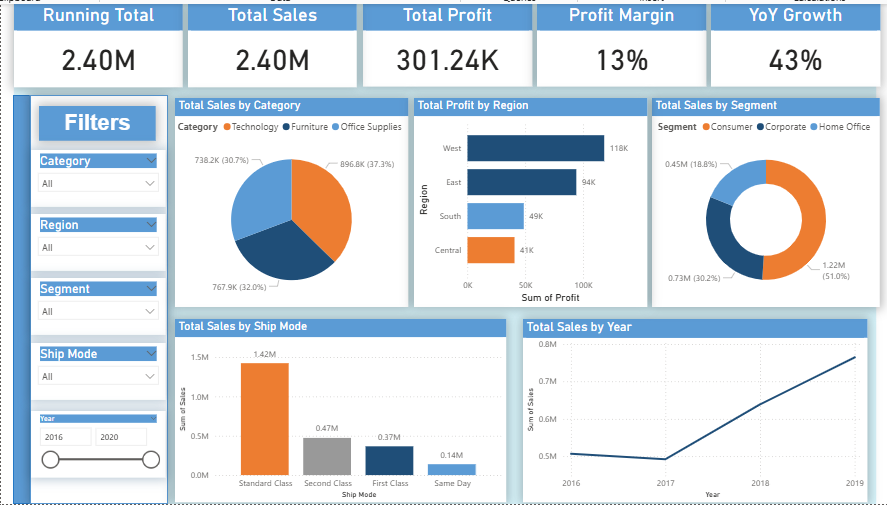

The dashboard page shown, as its layout file describes it:
{"tool":"powerbi","page":{"name":"executive analysis ","canvas":[1280,720],"ordinal":0},"visuals":[{"type":"shape","box":[17.3,131,24.5,589],"z":0},{"type":"shape","box":[41.8,131,198.7,589],"z":1000},{"type":"textbox","box":[54.7,146.9,168.5,50.4],"z":2000},{"type":"card","title":"Running Total ","fields":{"Values":["Fact.Running Total"]},"box":[18.7,0,243.4,119.5],"z":3000},{"type":"card","title":"Total Profit","fields":{"Values":["Fact.Total profit"]},"box":[520.6,0.1,243.6,119.3],"z":4000},{"type":"card","title":"Profit Margin ","fields":{"Values":["Fact.Profit Margin %"]},"box":[771.8,0.1,243.6,119.3],"z":5000},{"type":"card","title":"YoY Growth ","fields":{"Values":["Fact.YoY Growth %"]},"box":[1023,0.1,243.6,119.3],"z":6000},{"type":"card","title":"Total Sales","fields":{"Values":["Fact.Total sales"]},"box":[269.7,0,243.4,119.5],"z":7000},{"type":"slicer","fields":{"Values":["Dim category.Category"]},"box":[43.2,210.2,194.4,82.1],"z":8000},{"type":"slicer","fields":{"Values":["Dim address.Region"]},"box":[43.2,302.4,194.4,82.1],"z":9000},{"type":"slicer","fields":{"Values":["Dim customer segment.Segment"]},"box":[43.2,394.6,194.4,82.1],"z":10000},{"type":"slicer","fields":{"Values":["Dim ship mode.Ship Mode"]},"box":[43.2,488.2,194.4,82.1],"z":11000},{"type":"slicer","fields":{"Values":["Dim date.Year"]},"box":[43.2,586.1,194.4,96.5],"z":12000},{"type":"lineChart","title":"Total Sales by Year","fields":{"Y":["Sum(Fact.Sales)"],"Category":["Dim date.Year","Dim date.Quarter","Dim date.Month Name"]},"box":[752.2,453.6,495.7,263.8],"z":13000},{"type":"pieChart","title":"Total Sales by Category","fields":{"Category":["Dim category.Category"],"Y":["Sum(Fact.Sales)"]},"box":[250.6,135.4,335.5,301],"z":14000},{"type":"donutChart","title":"Total Sales by Segment","fields":{"Category":["Dim customer segment.Segment"],"Y":["Sum(Fact.Sales)"]},"box":[937.4,135.4,328.3,301],"z":15000},{"type":"barChart","title":"Total Profit by Region","fields":{"Category":["Dim address.Region"],"Y":["Sum(Fact.Profit)"]},"box":[594,135.4,335.5,301],"z":16000},{"type":"columnChart","title":"Total Sales by Ship Mode","fields":{"Category":["Dim ship mode.Ship Mode"],"Y":["Sum(Fact.Sales)"]},"box":[250.7,453.6,476.8,263.8],"z":17000}]}

Visuals, with their boxes in screenshot pixels (x1, y1, x2, y2), scaled from the page's 1280x720 canvas onto the 887x505 screenshot:
shape: select_region(12, 92, 29, 504)
shape: select_region(29, 92, 167, 504)
textbox: select_region(38, 103, 155, 138)
"Running Total " card: select_region(13, 0, 182, 84)
"Total Profit" card: select_region(361, 0, 530, 84)
"Profit Margin " card: select_region(535, 0, 704, 84)
"YoY Growth " card: select_region(709, 0, 878, 84)
"Total Sales" card: select_region(187, 0, 356, 84)
slicer - Dim category.Category: select_region(30, 147, 165, 205)
slicer - Dim address.Region: select_region(30, 212, 165, 270)
slicer - Dim customer segment.Segment: select_region(30, 277, 165, 334)
slicer - Dim ship mode.Ship Mode: select_region(30, 342, 165, 400)
slicer - Dim date.Year: select_region(30, 411, 165, 479)
"Total Sales by Year" lineChart: select_region(521, 318, 865, 503)
"Total Sales by Category" pieChart: select_region(174, 95, 406, 306)
"Total Sales by Segment" donutChart: select_region(650, 95, 877, 306)
"Total Profit by Region" barChart: select_region(412, 95, 644, 306)
"Total Sales by Ship Mode" columnChart: select_region(174, 318, 504, 503)
